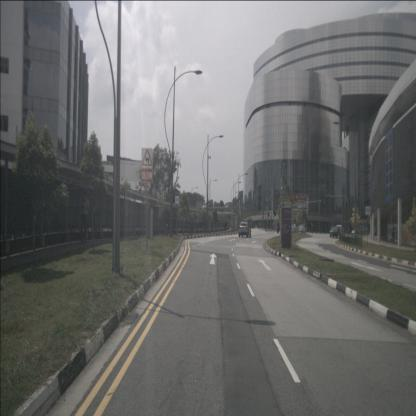human-pedestrian-adult: (80, 190, 90, 244), (392, 225, 396, 243)
vehicle-car: (239, 222, 251, 238), (330, 226, 341, 238), (335, 225, 344, 236), (297, 224, 306, 234), (290, 224, 298, 233)
vehicle-motorcycle: (276, 221, 280, 234)
